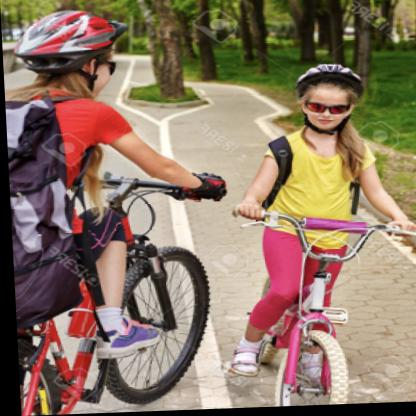With Helmet: (6, 6, 121, 106), (286, 60, 371, 136)
